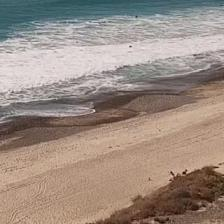surfer: (135, 14, 138, 18), (219, 4, 223, 7), (129, 45, 132, 48)
